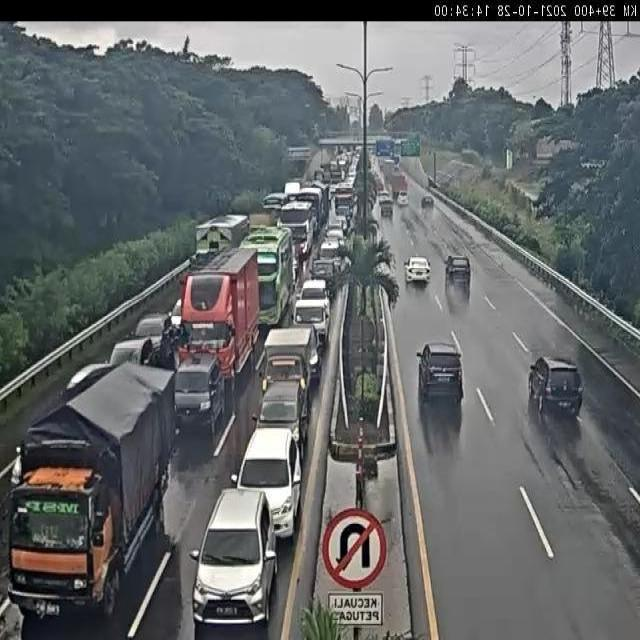Bus: (242, 232, 298, 326)
Car: (191, 494, 283, 632), (234, 426, 304, 541), (261, 325, 320, 415), (411, 341, 474, 410), (170, 355, 223, 432), (528, 354, 584, 418), (292, 285, 332, 348), (109, 337, 159, 370), (444, 255, 472, 298), (404, 256, 432, 285), (378, 194, 394, 217), (396, 192, 409, 206), (421, 195, 434, 208)
Truck: (0, 356, 174, 618), (176, 246, 264, 398), (188, 213, 244, 266)
